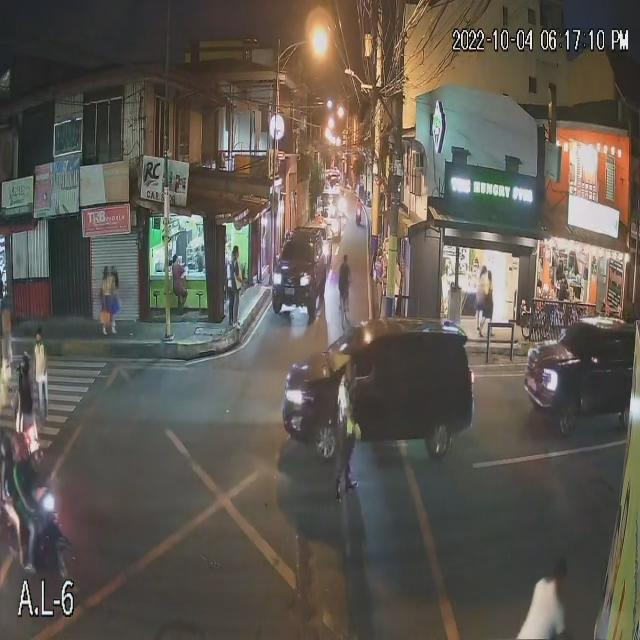helmet: (17, 439, 31, 457), (2, 440, 12, 455)
motorcycle: (0, 490, 71, 572)
rider: (18, 462, 33, 548), (1, 463, 16, 522)
